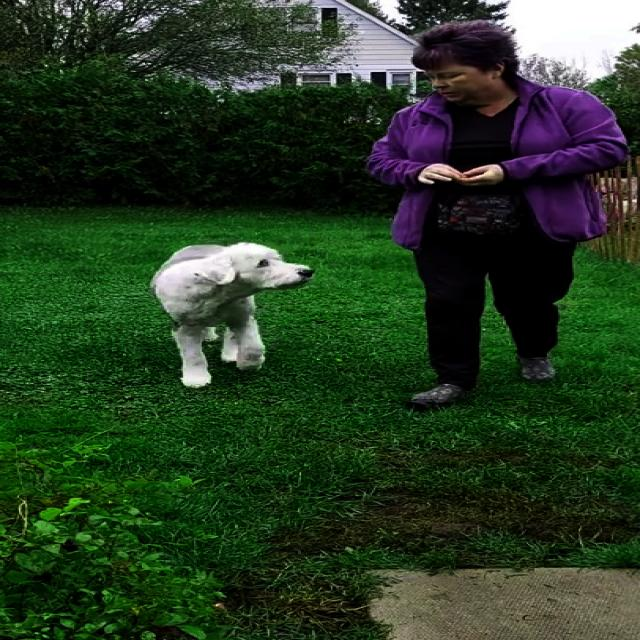Unleashed_Dog: (150, 242, 486, 386)
